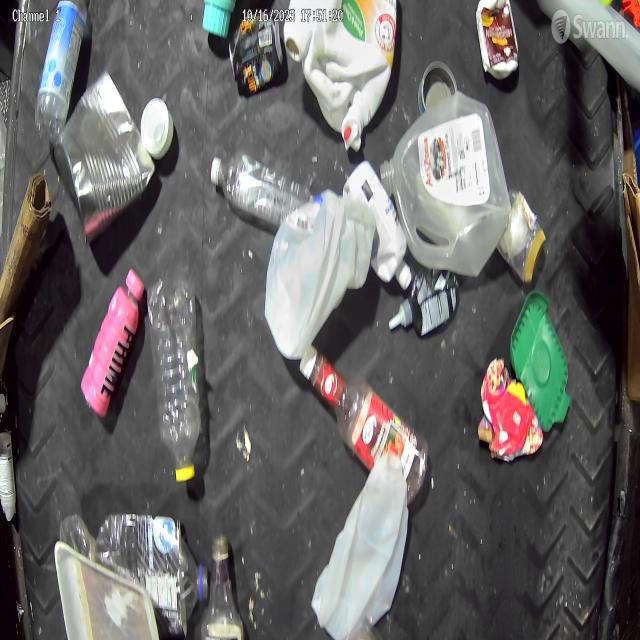can: (54, 67, 156, 246), (229, 12, 285, 99)
milk_jug: (378, 88, 512, 278), (264, 188, 376, 361), (310, 454, 410, 640)
non_white_jug: (283, 0, 397, 153)
plastic_bottle: (59, 514, 208, 633), (147, 278, 202, 483), (211, 150, 324, 237), (200, 534, 246, 640)
